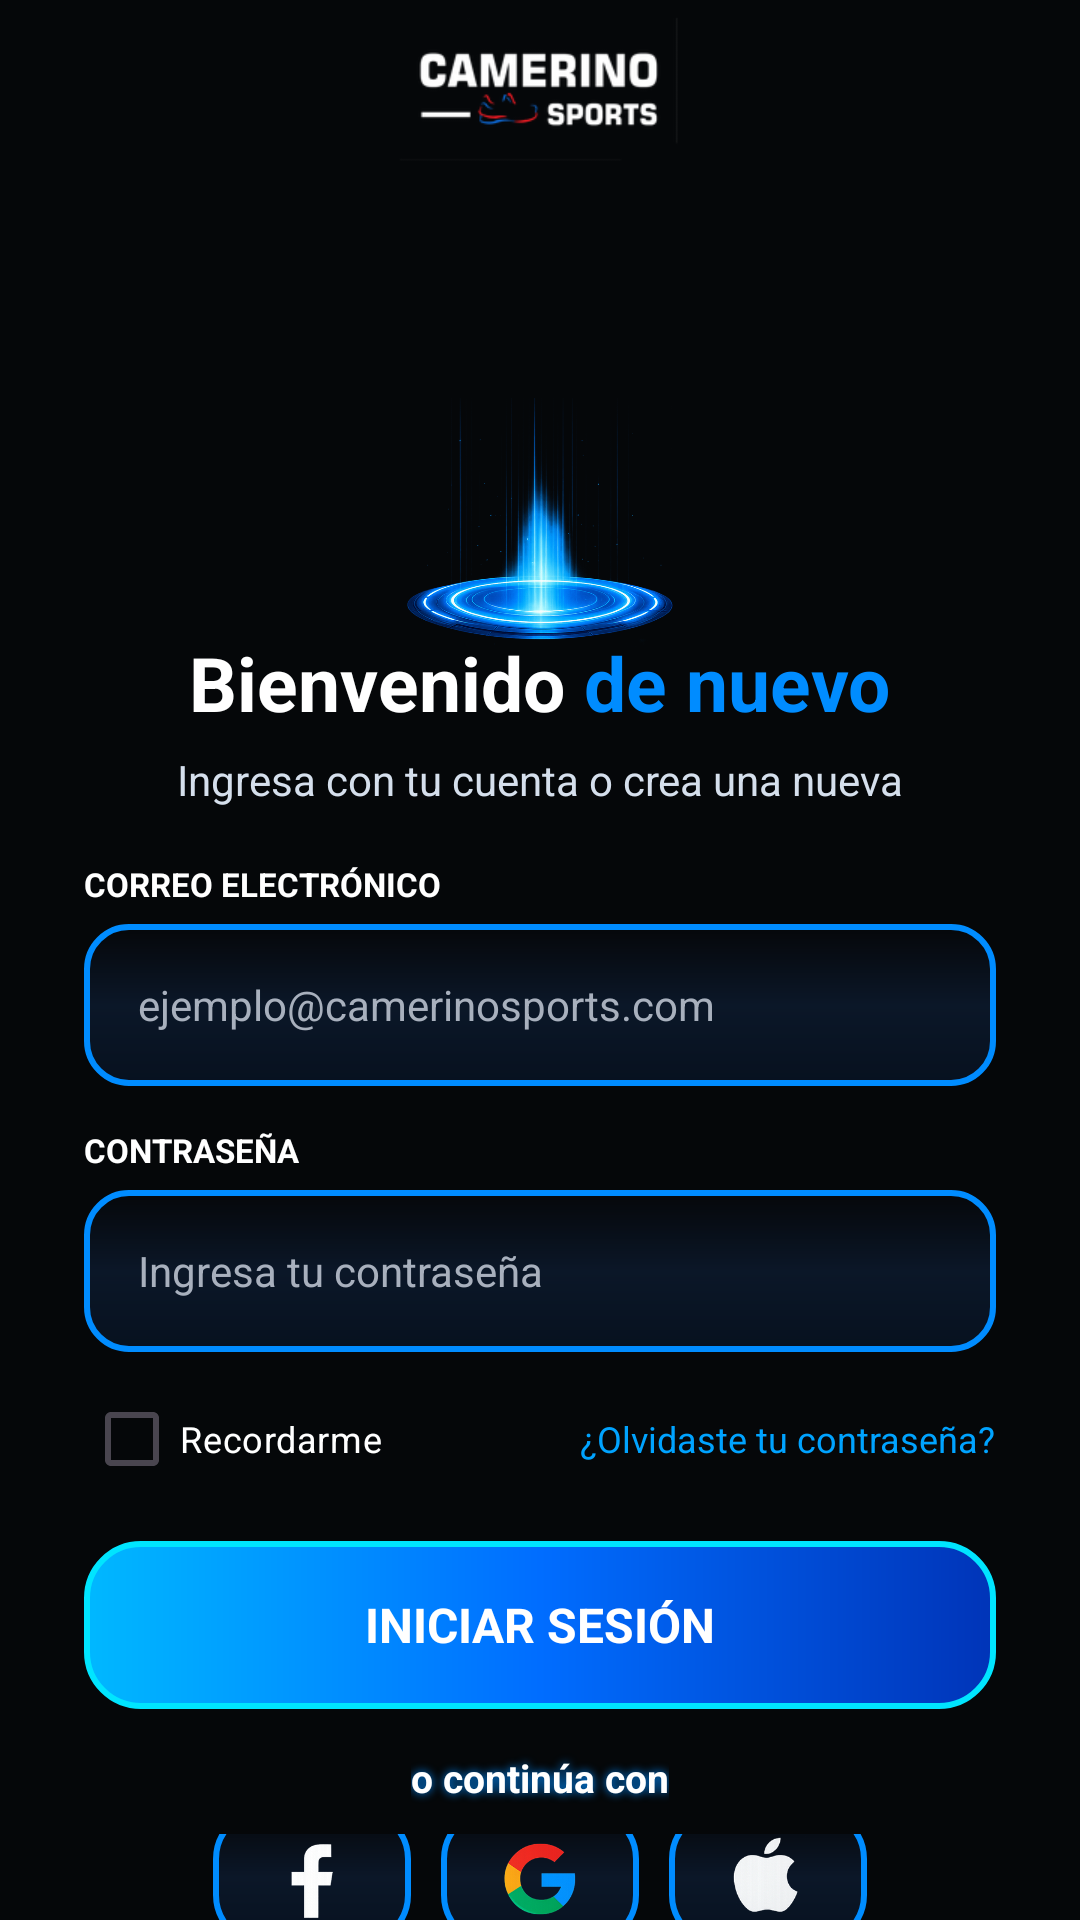

Where icons sit on this 1080 x 1920 app screen, as (x1, y1, x2, y2):
neon platform: (407, 401, 673, 640)
